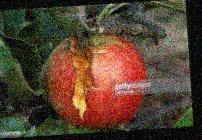rotten apple: (40, 34, 147, 127)
